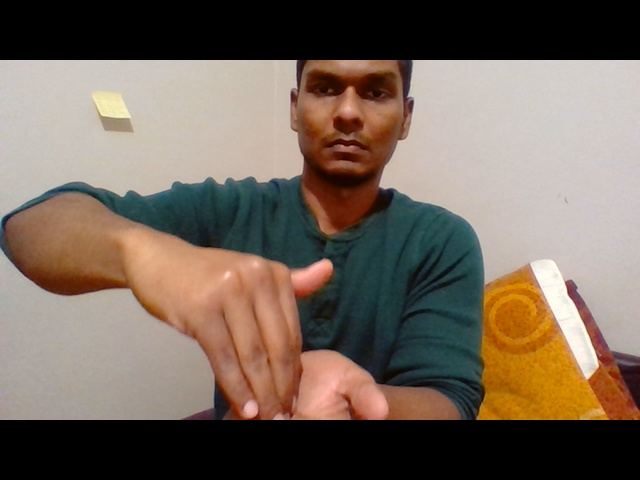ExcuseMe: (129, 226, 394, 421)
